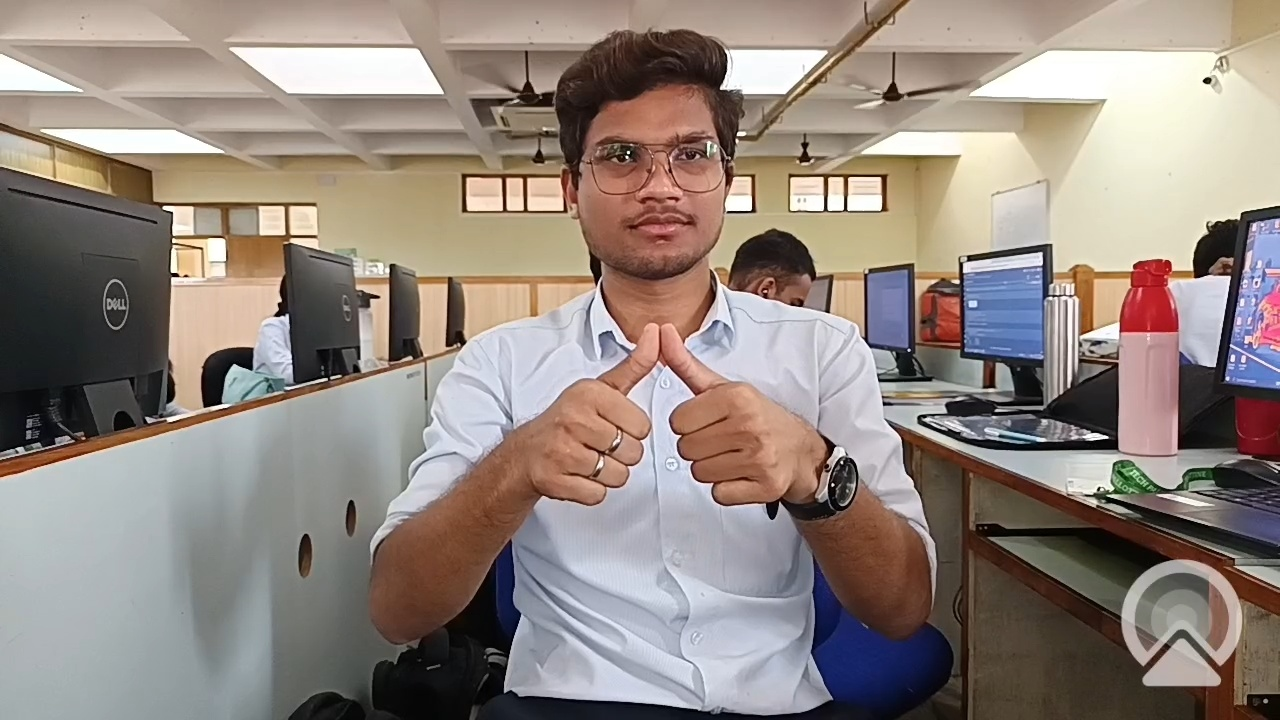A: (435, 299, 895, 571)
